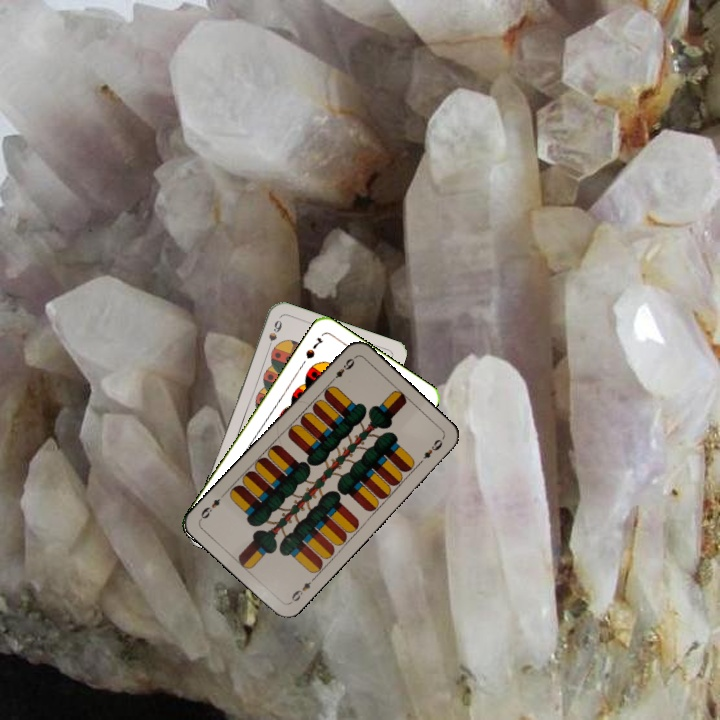E9: (326, 353, 358, 385), (286, 574, 317, 606)
S7: (301, 333, 326, 361)
S9: (263, 316, 285, 354)
